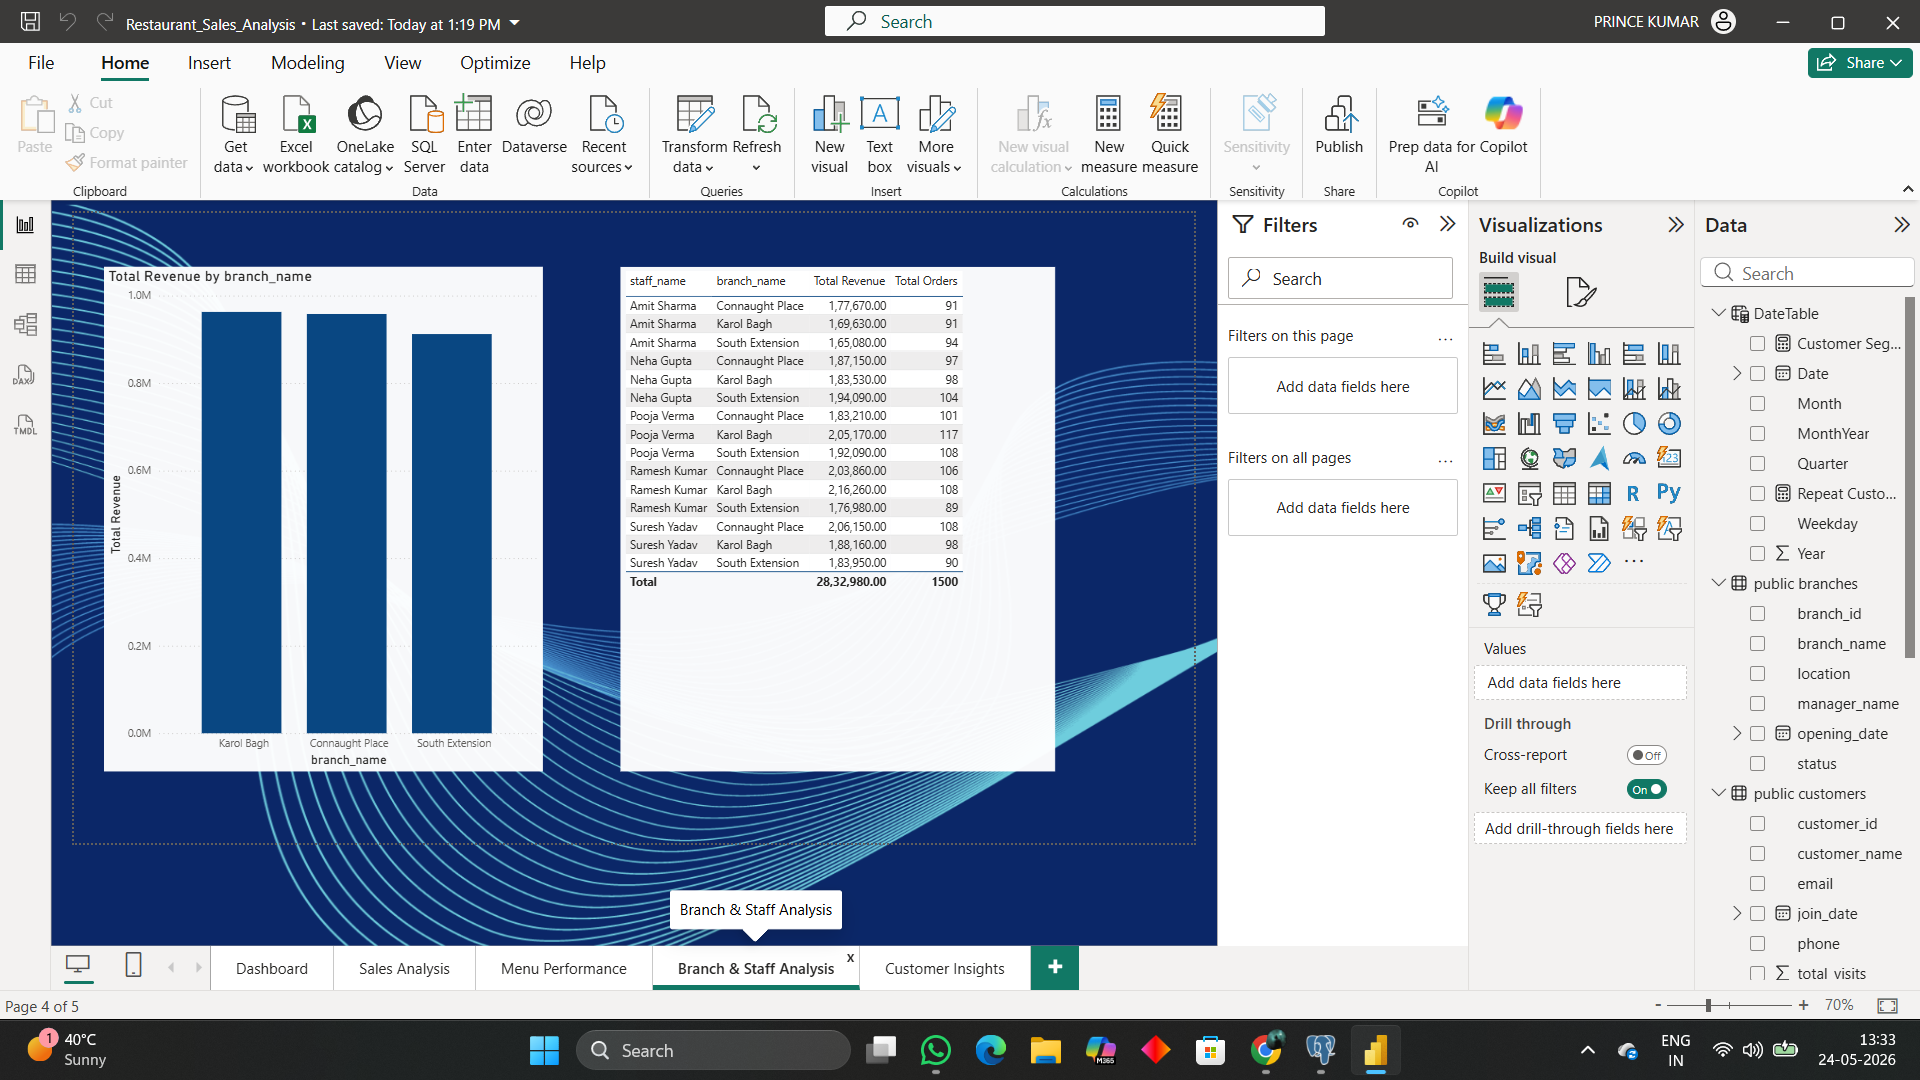

Layout of this report page (visuals, bound fields, positions):
{"tool":"powerbi","page":{"name":"Branch & Staff Analysis","canvas":[1280,720],"ordinal":3},"visuals":[{"type":"clusteredColumnChart","fields":{"Category":["public branches.branch_name"],"Y":["public sales.Total Revenue"]},"box":[34.3,61.4,501.4,577.1],"z":0},{"type":"tableEx","fields":{"Values":["public staff.staff_name","public branches.branch_name","public sales.Total Revenue","public sales.Total Orders"]},"box":[624.3,61.4,497.1,577.1],"z":1000}]}

Visuals, with their boxes on the page's 1280x720 design canvas (x1, y1, x2, y2). These are canvas units, not pixel positions in the 1920x1080 screenshot, which may show the page scaled, cropped or inside an application window:
clusteredColumnChart - public branches.branch_name x public sales.Total Revenue: rect(34, 61, 536, 638)
tableEx - public staff.staff_name x public branches.branch_name: rect(624, 61, 1121, 638)
